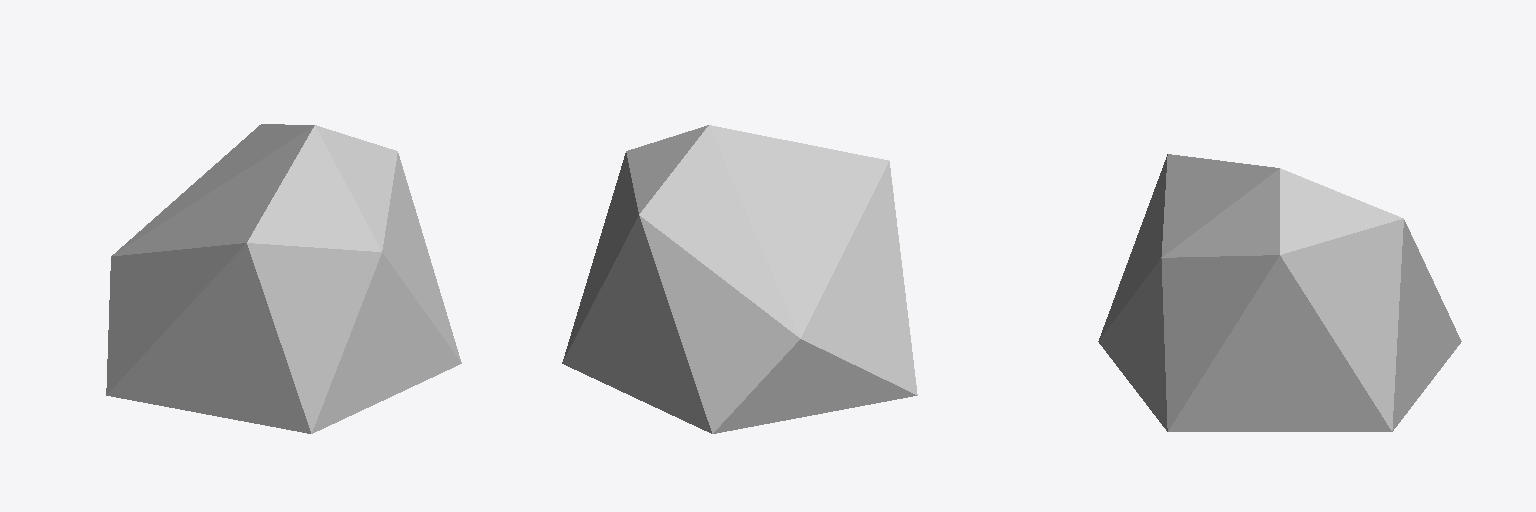
Rendered from Small Stone.obj.
3 renders of one model, left to right at view 1: azimuth 30°, elevation 25°; view 2: azimuth 150°, elevation 25°; view 3: azimuth 270°, elevation 25°, orthographic.
Parts seen in each view (by area): view 1: Icosphere; view 2: Icosphere; view 3: Icosphere.
Part boxes in pixels (x1,y1,x2,y2): Icosphere: (106, 124, 461, 433); Icosphere: (562, 125, 917, 433); Icosphere: (1098, 154, 1461, 431).
Bounding box in the file's own units: 1.62 × 1.2 × 1.7.